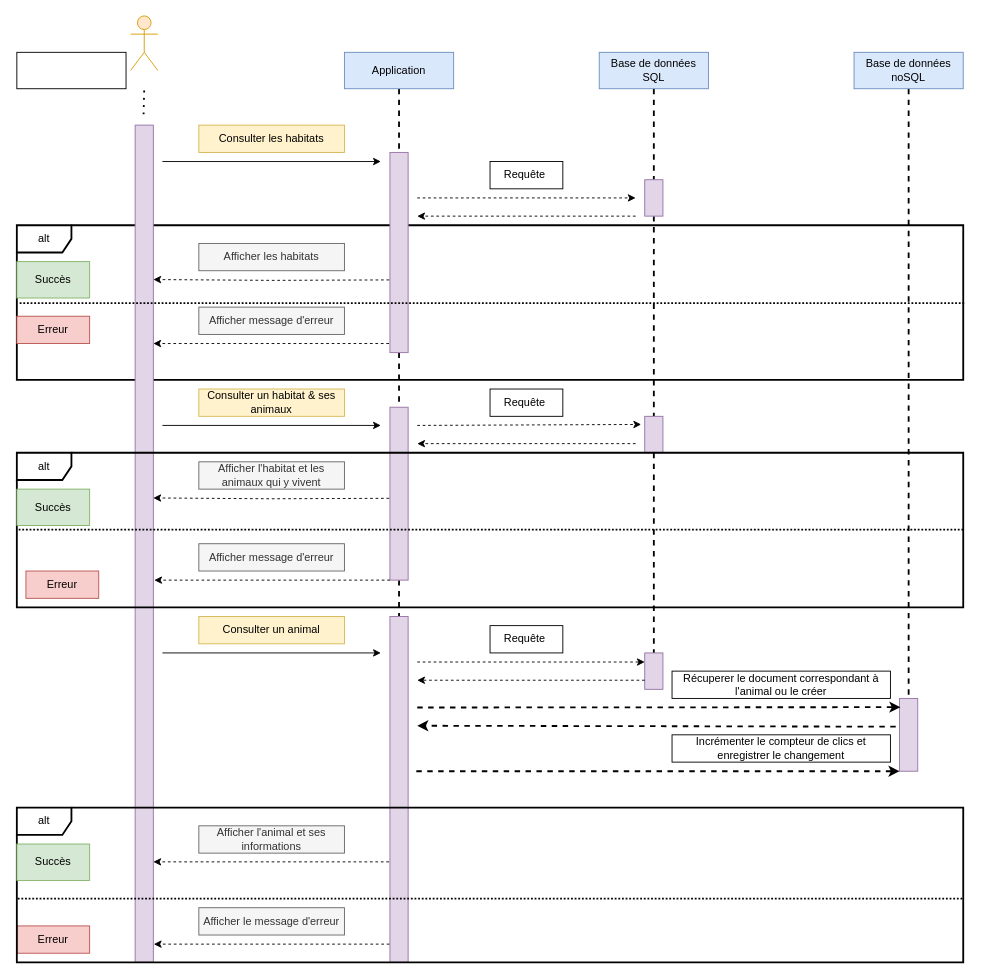
This 982x979 diagram has some shape labels left out. The box of each missing label's shape, as (x1, y1, x2, y2) in pixels:
Accéder aux informations d'un animal: (16, 51, 126, 89)
Visiteur: (130, 15, 158, 71)
